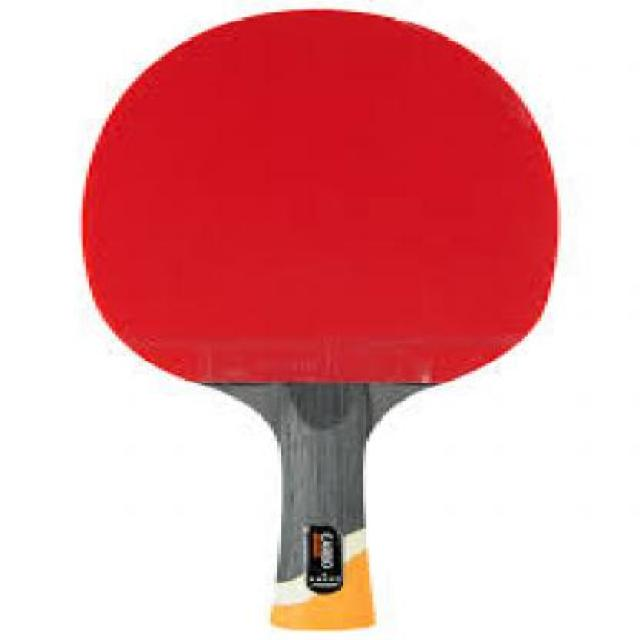table_tennis_racket: (76, 7, 562, 416)
